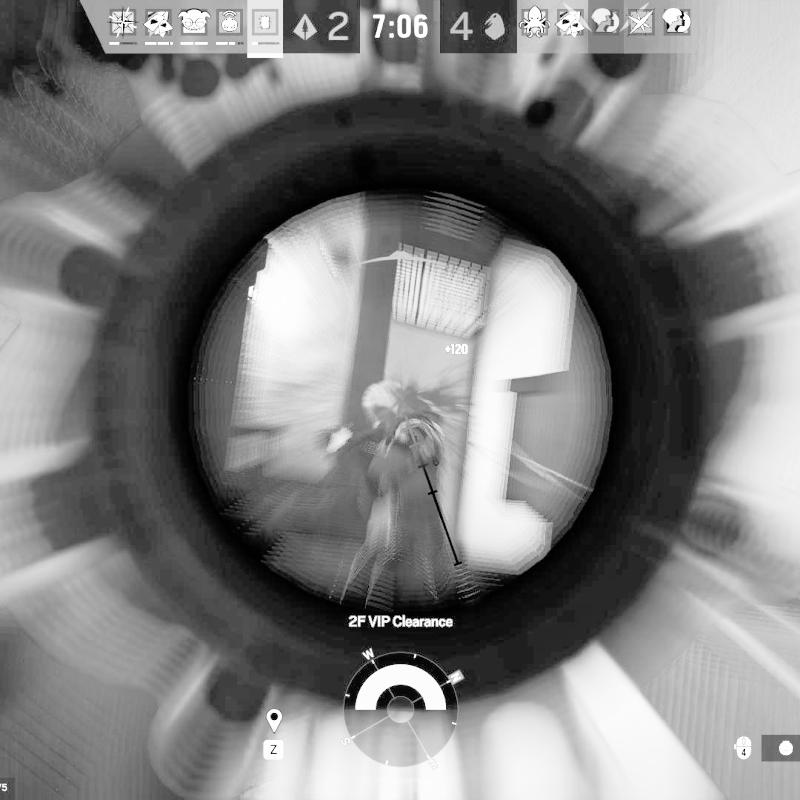Character: (317, 376, 466, 614)
Head: (366, 381, 414, 432)
